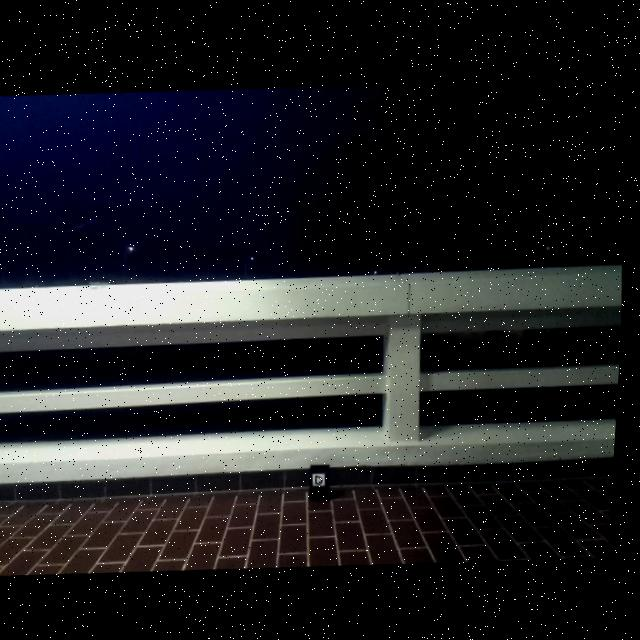D: (320, 473, 330, 484)
